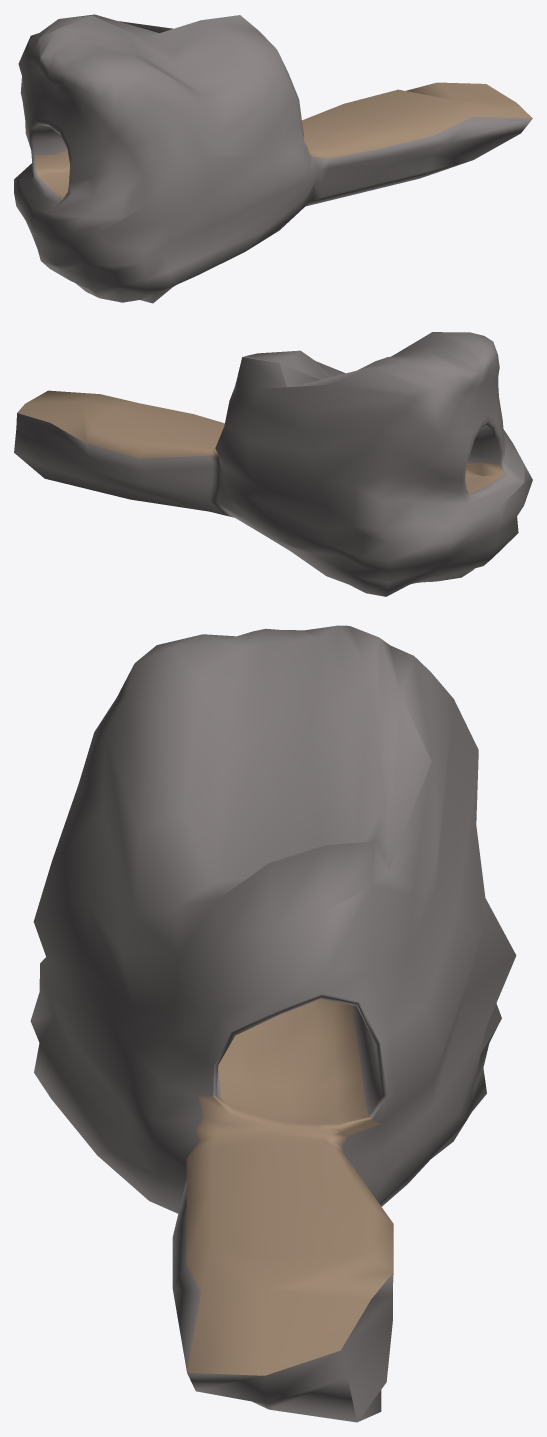
File: Hoehle_01.fbx
3 renders of one model, top to bottom at view 1: azimuth 30°, elevation 25°; view 2: azimuth 150°, elevation 25°; view 3: azimuth 270°, elevation 25°, orthographic. The views are drawn at different scales.
Visible parts, largest first — view 1: Hoehle_01; view 2: Hoehle_01; view 3: Hoehle_01.
Part boxes in pixels (bbox=[...]): Hoehle_01: bbox=[14, 14, 532, 303]; Hoehle_01: bbox=[14, 332, 532, 596]; Hoehle_01: bbox=[30, 625, 516, 1422].
Bounding box in the file's own units: 8230 × 4034 × 3614.
